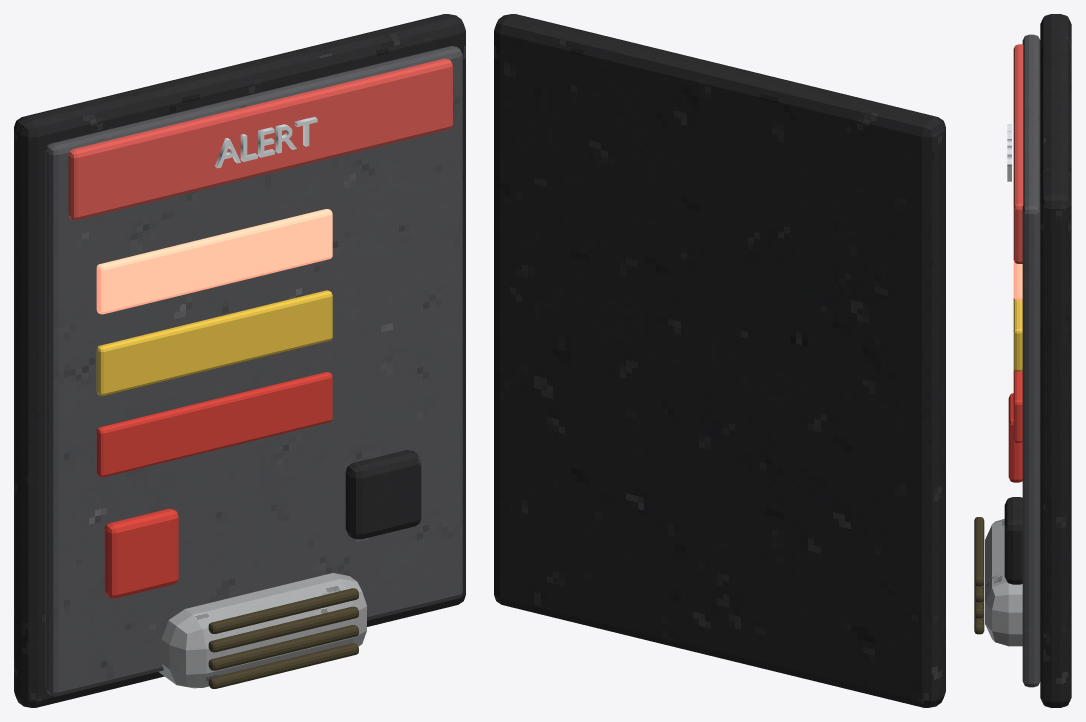
The model's file is decor_sec_alert_panel.glb.
The picture shows the model from 3 angles, left to right: view 1: azimuth 30°, elevation 25°; view 2: azimuth 150°, elevation 25°; view 3: azimuth 270°, elevation 25°; orthographic projection. The views are drawn at different scales.
Parts seen in each view (by area): view 1: DEC_SecAlertPanel__Face, DEC_SecAlertPanel__Back, DEC_SecAlertPanel__Header, DEC_SecAlertPanel__Threat_Bar_2, DEC_SecAlertPanel__Threat_Bar_3, DEC_SecAlertPanel__Threat_Bar_1, DEC_SecAlertPanel__Siren, DEC_SecAlertPanel__Lockdown_Key, DEC_SecAlertPanel__Lockdown_Lamp, DEC_SecAlertPanel__Siren_Slat_3, DEC_SecAlertPanel__Siren_Slat_1, DEC_SecAlertPanel__Siren_Slat_4 (+2 smaller); view 2: DEC_SecAlertPanel__Back; view 3: DEC_SecAlertPanel__Back, DEC_SecAlertPanel__Face, DEC_SecAlertPanel__Siren, DEC_SecAlertPanel__Header, DEC_SecAlertPanel__Lockdown_Key, DEC_SecAlertPanel__Lockdown_Lamp, DEC_SecAlertPanel__Siren_Slat_4, DEC_SecAlertPanel__Threat_Bar_2, DEC_SecAlertPanel__Threat_Bar_3, DEC_SecAlertPanel__Threat_Bar_1, DEC_SecAlertPanel__Header_Text, DEC_SecAlertPanel__Siren_Slat_2 (+2 smaller).
Part boxes in pixels (bbox=[...]): DEC_SecAlertPanel__Face: bbox=[45, 46, 462, 696]; DEC_SecAlertPanel__Back: bbox=[14, 14, 465, 707]; DEC_SecAlertPanel__Header: bbox=[68, 58, 452, 220]; DEC_SecAlertPanel__Threat_Bar_2: bbox=[96, 290, 332, 395]; DEC_SecAlertPanel__Threat_Bar_3: bbox=[96, 372, 332, 477]; DEC_SecAlertPanel__Threat_Bar_1: bbox=[96, 209, 332, 314]; DEC_SecAlertPanel__Siren: bbox=[158, 573, 366, 688]; DEC_SecAlertPanel__Lockdown_Key: bbox=[345, 450, 421, 539]; DEC_SecAlertPanel__Lockdown_Lamp: bbox=[104, 508, 178, 598]; DEC_SecAlertPanel__Siren_Slat_3: bbox=[208, 606, 358, 652]; DEC_SecAlertPanel__Siren_Slat_1: bbox=[208, 643, 358, 688]; DEC_SecAlertPanel__Siren_Slat_4: bbox=[208, 588, 358, 633]; DEC_SecAlertPanel__Back: bbox=[494, 14, 945, 707]; DEC_SecAlertPanel__Back: bbox=[1040, 14, 1071, 707]; DEC_SecAlertPanel__Face: bbox=[1022, 34, 1040, 687]; DEC_SecAlertPanel__Siren: bbox=[985, 519, 1022, 646]; DEC_SecAlertPanel__Header: bbox=[1013, 44, 1023, 263]; DEC_SecAlertPanel__Lockdown_Key: bbox=[1004, 497, 1022, 584]; DEC_SecAlertPanel__Lockdown_Lamp: bbox=[1008, 393, 1022, 482]; DEC_SecAlertPanel__Siren_Slat_4: bbox=[974, 517, 984, 586]; DEC_SecAlertPanel__Threat_Bar_2: bbox=[1013, 298, 1022, 371]; DEC_SecAlertPanel__Threat_Bar_3: bbox=[1013, 369, 1022, 442]; DEC_SecAlertPanel__Threat_Bar_1: bbox=[1013, 260, 1022, 300]; DEC_SecAlertPanel__Header_Text: bbox=[1007, 124, 1011, 181]; DEC_SecAlertPanel__Siren_Slat_2: bbox=[974, 599, 984, 618].
Size of the model in its own units: 1.14 by 1.44 by 0.2475.
9 materials, 3 textured.
